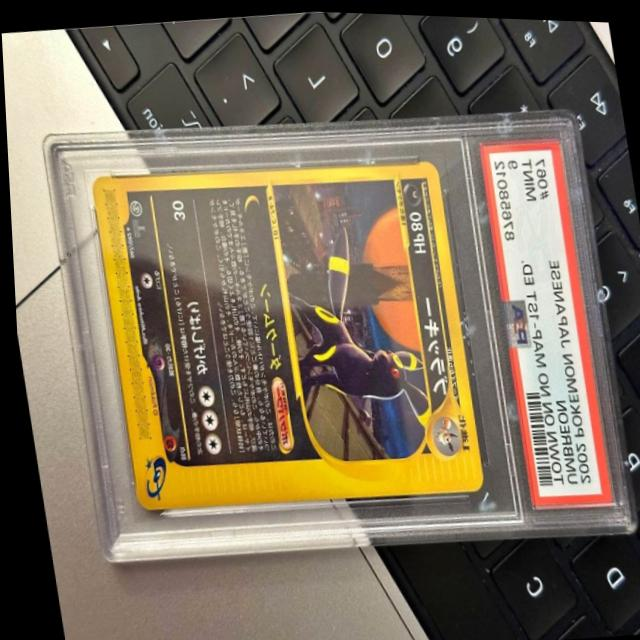card: (90, 155, 479, 508)
